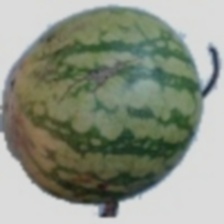watermelon: (42, 44, 218, 208)
